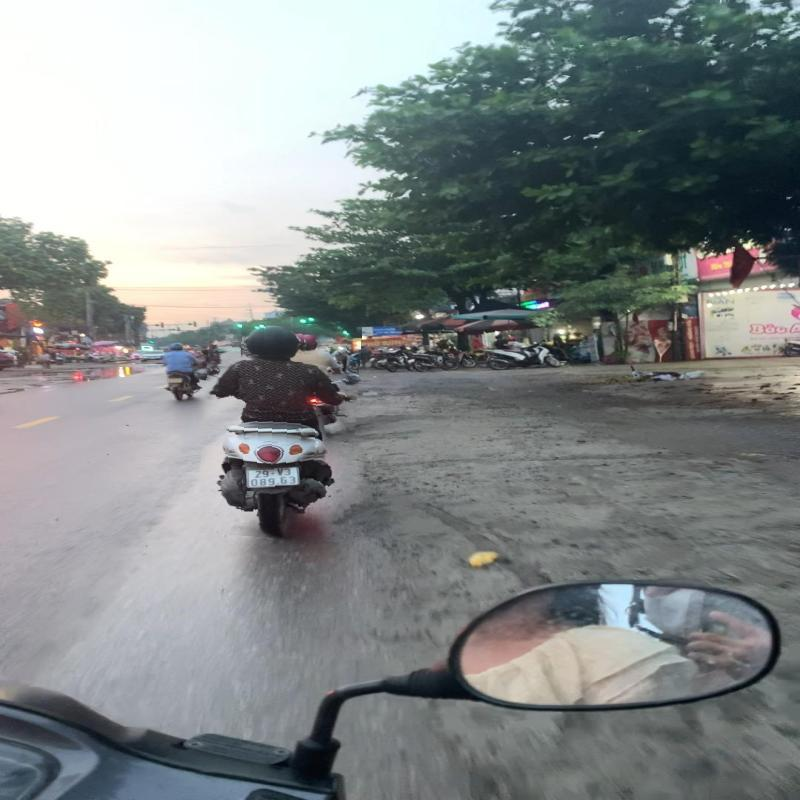helmet: (241, 324, 304, 362)
licenseplate: (244, 465, 306, 490)
motorcyclist: (200, 320, 359, 541)
